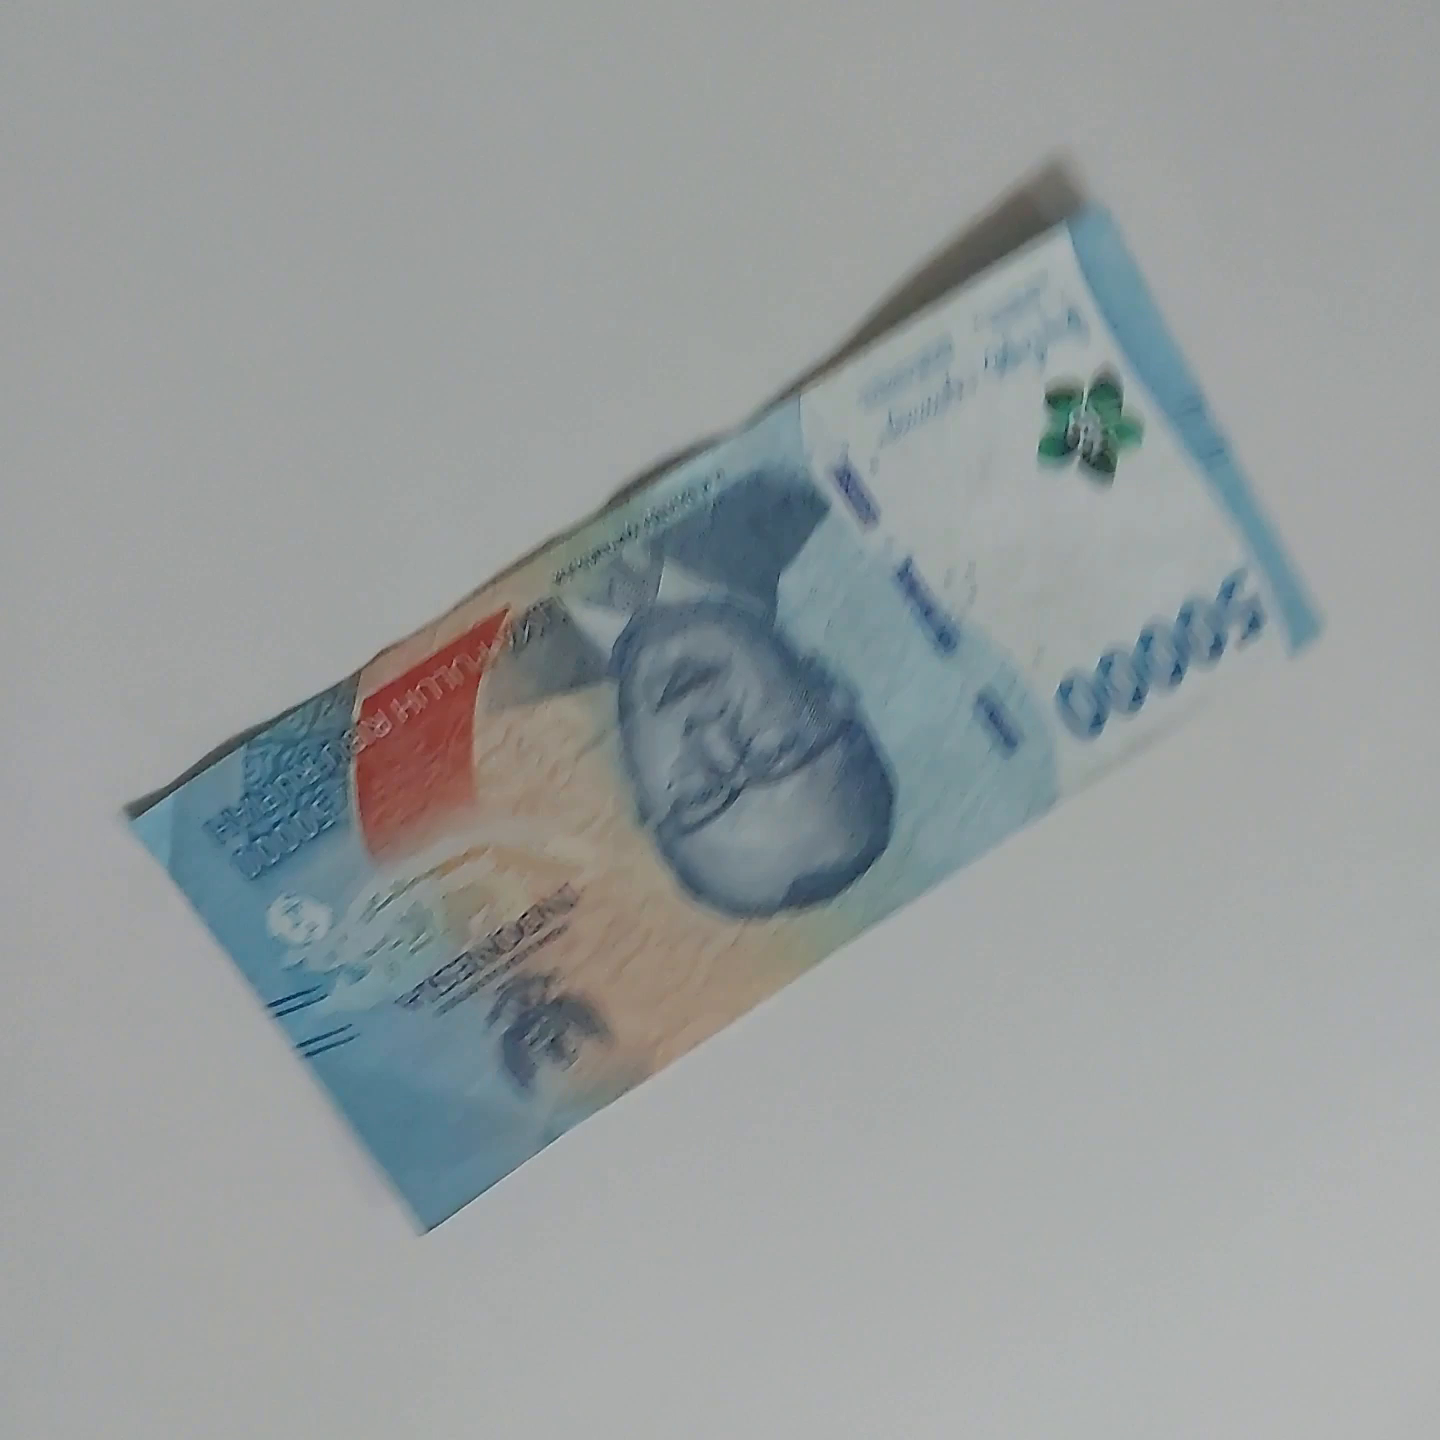50k: (116, 791, 1238, 1319)
